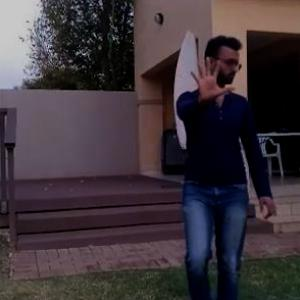follow_hand: (186, 53, 231, 106)
